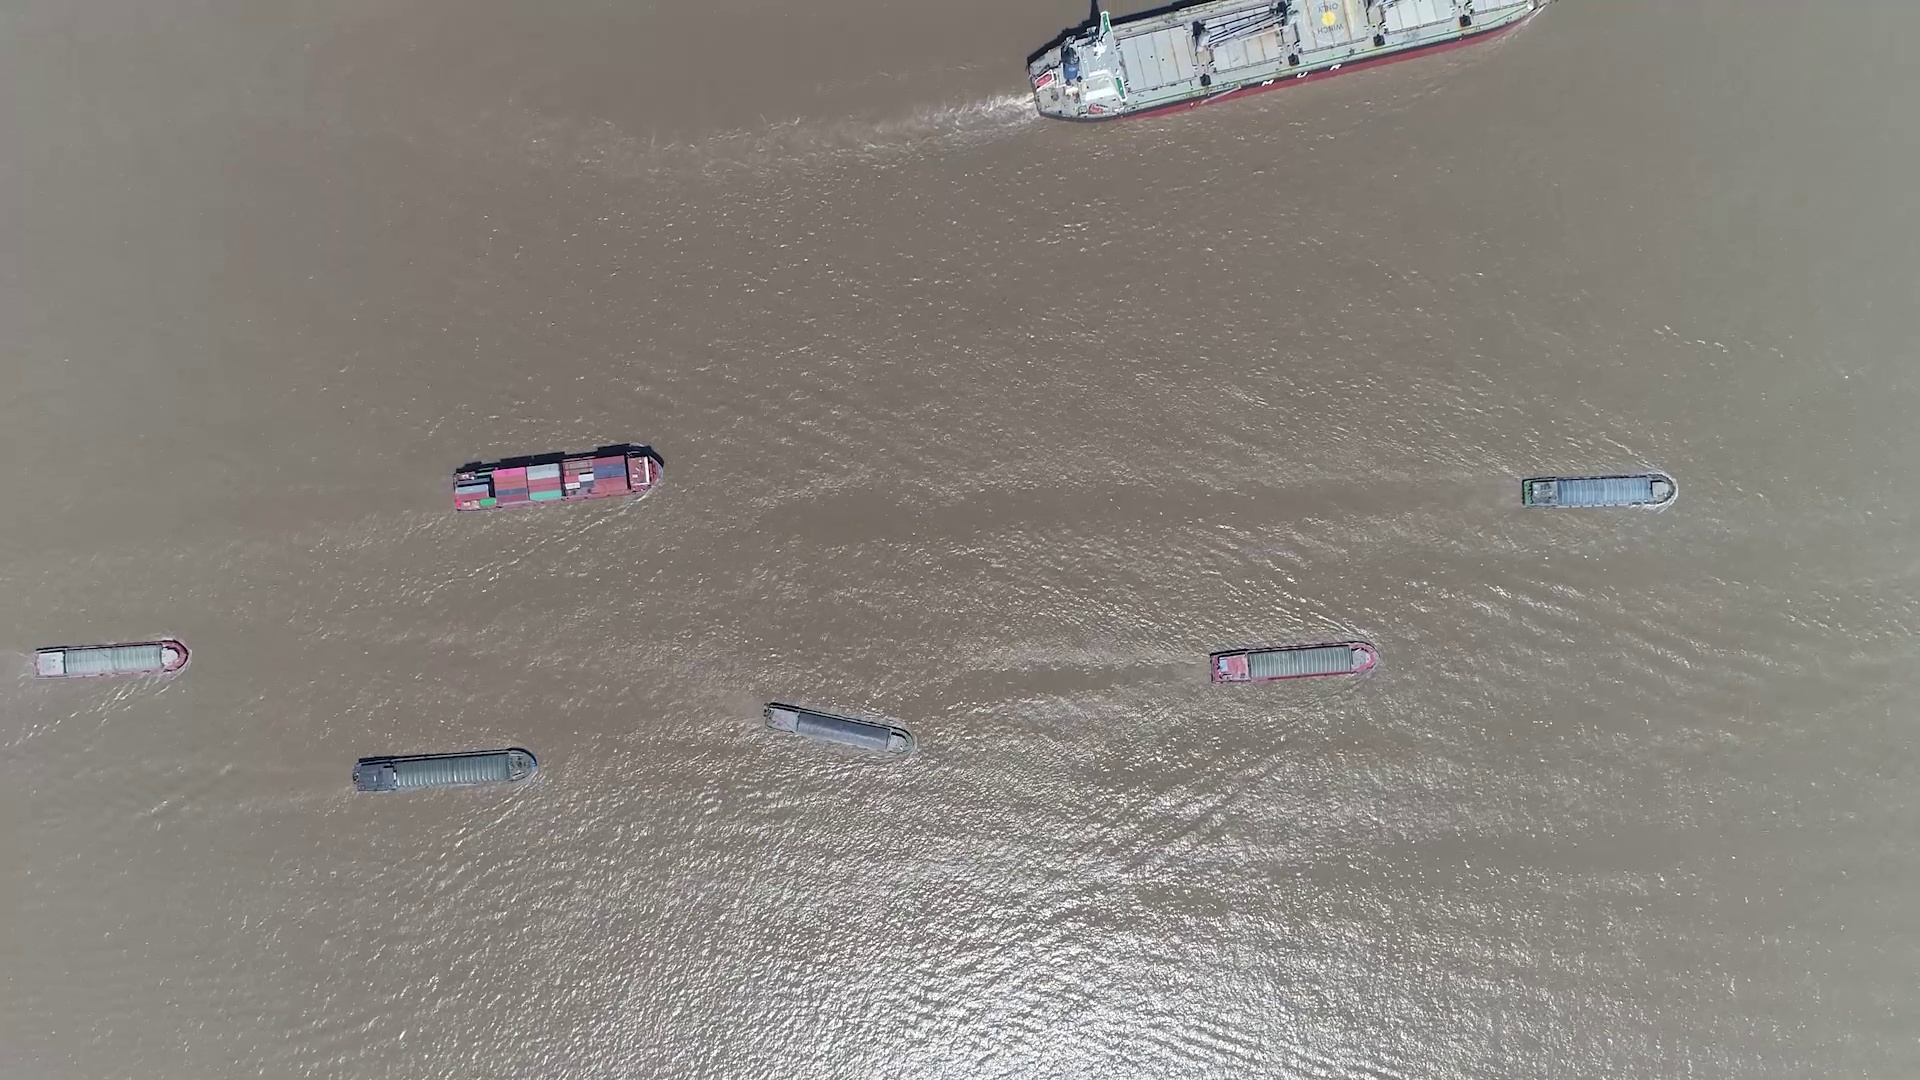ship: (1027, 3, 1545, 124), (452, 447, 663, 510), (353, 746, 538, 794), (762, 700, 913, 754), (1209, 642, 1379, 684), (30, 640, 190, 679), (1520, 473, 1675, 509)
